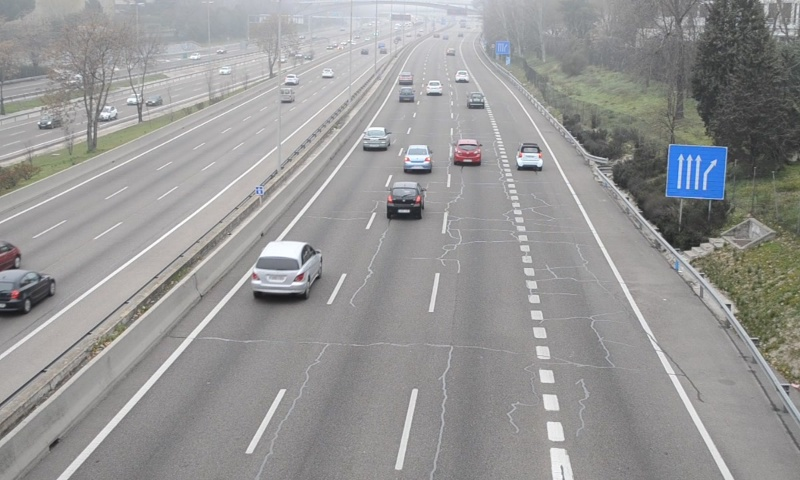car: (248, 241, 322, 294), (386, 180, 426, 221), (403, 144, 433, 174), (454, 138, 483, 167), (516, 142, 544, 171), (362, 126, 392, 151), (466, 92, 485, 110), (426, 78, 444, 96), (398, 87, 415, 103), (397, 71, 414, 85)
